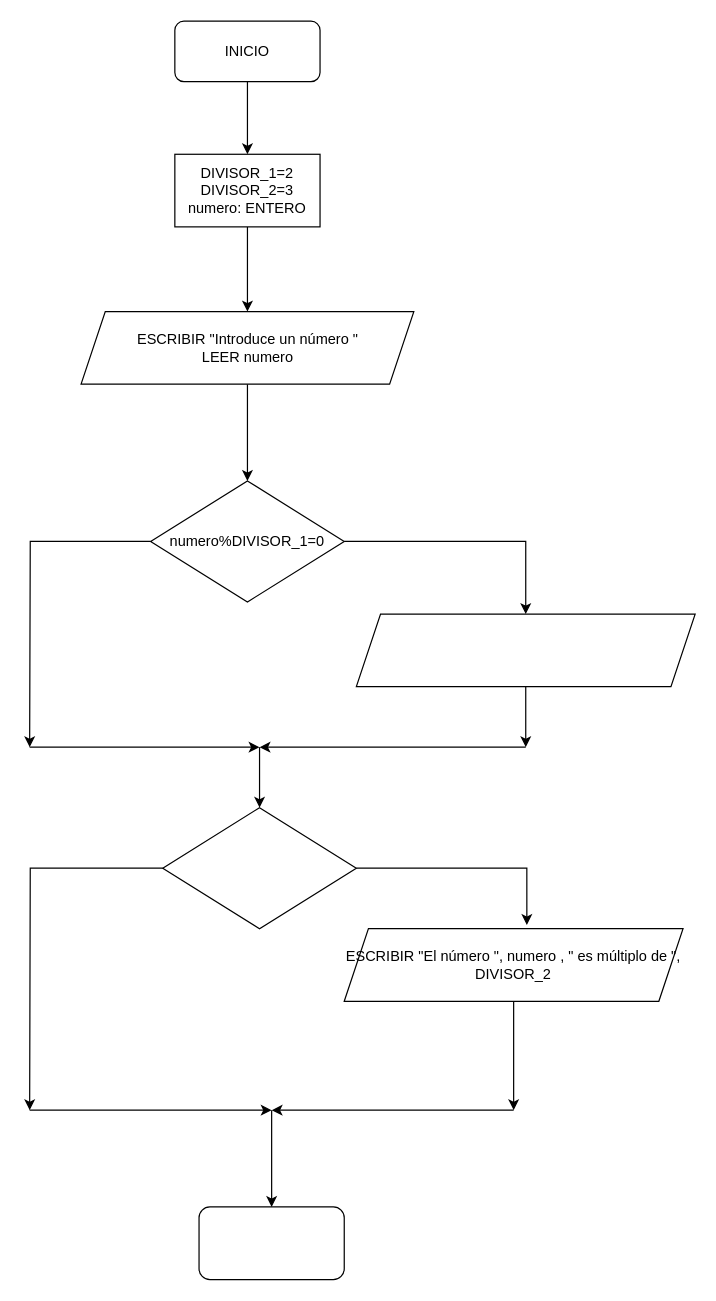
This 716x1301 diagram has some shape labels left out. The shapes that lost their labels are listed below. From the top down, each one's centre as x and y in pixels, then its label:
(x=525, y=650): ESCRIBIR "El número ", numero , " es múltiplo de ", DIVISOR_1
(x=259, y=867): numero%DIVISOR_2=0
(x=271, y=1243): FIN
